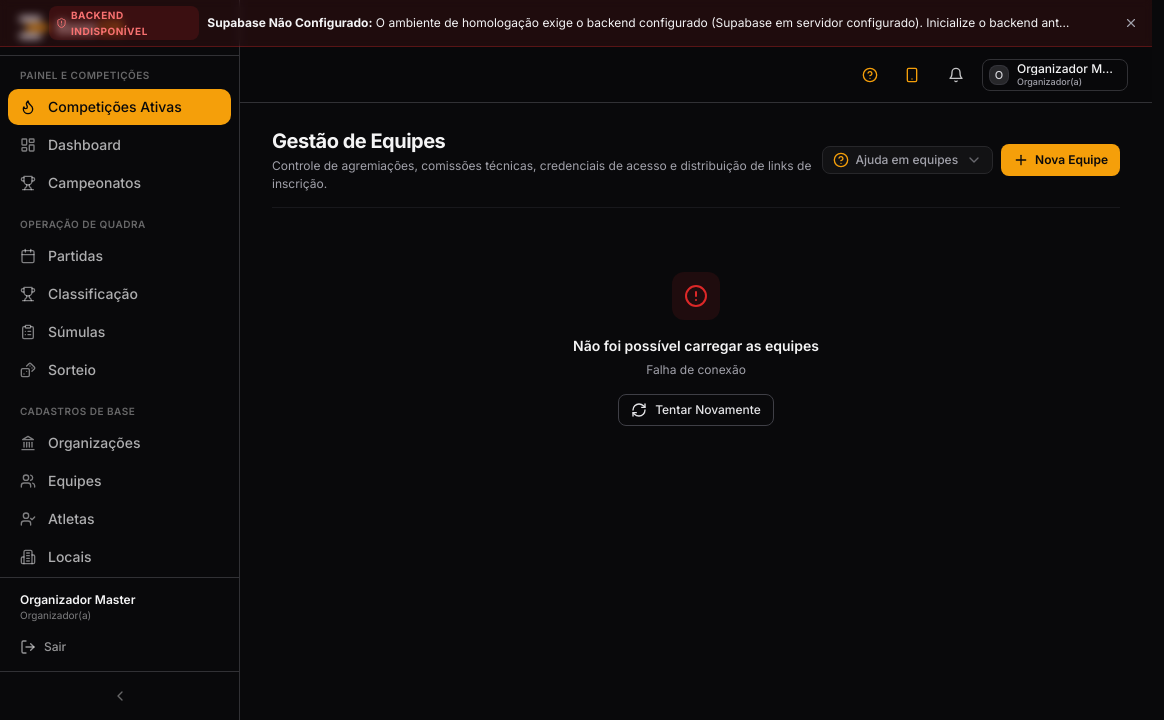
Test: TeamsPage & Elenco de Atletas (Fase 7.5) › exibe estado de erro amigável com retry quando o dataAccess falha
This screenshot has width=1164, height=720.
Expected: the message "Não foi possível carregar as equipes Falha de conexão Tentar Novamente" is shown, 573,272 -> 819,426
Expected: the text "Não foi possível carregar as equipes" is shown, 573,336 -> 819,356
Click the button "Tentar Novamente": [696, 410] box 618,394 -> 774,426
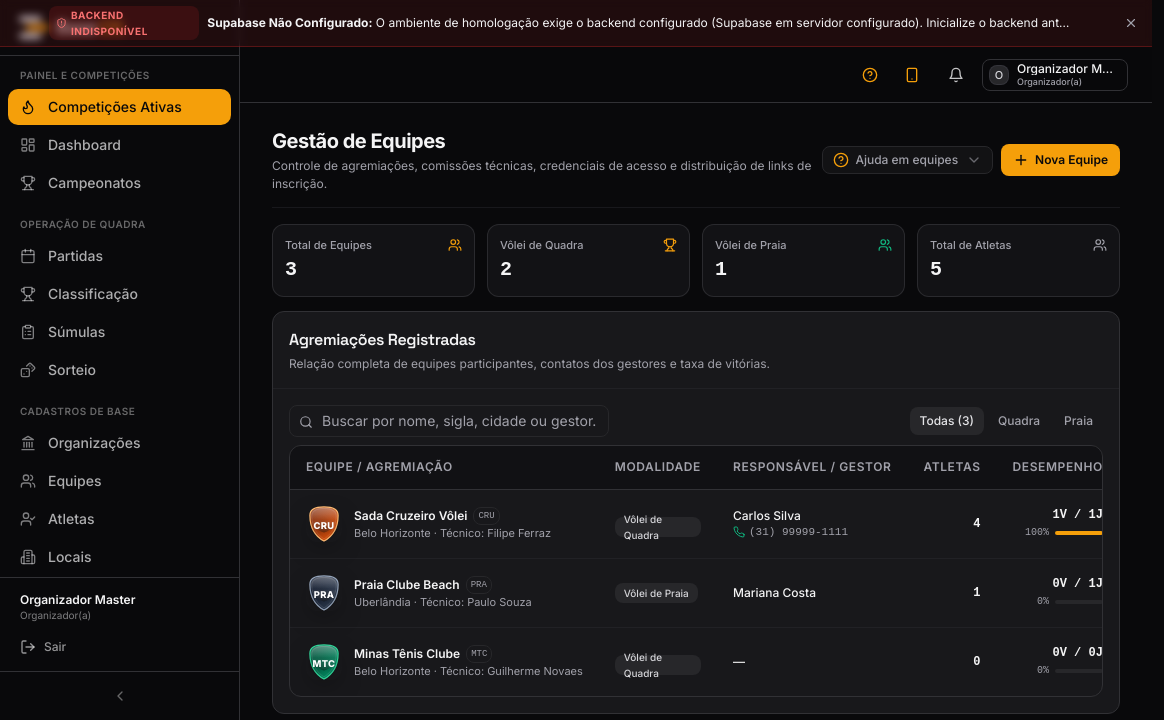
Expected: the text "Sada Cruzeiro Vôlei" is shown, 354,508 -> 467,524
